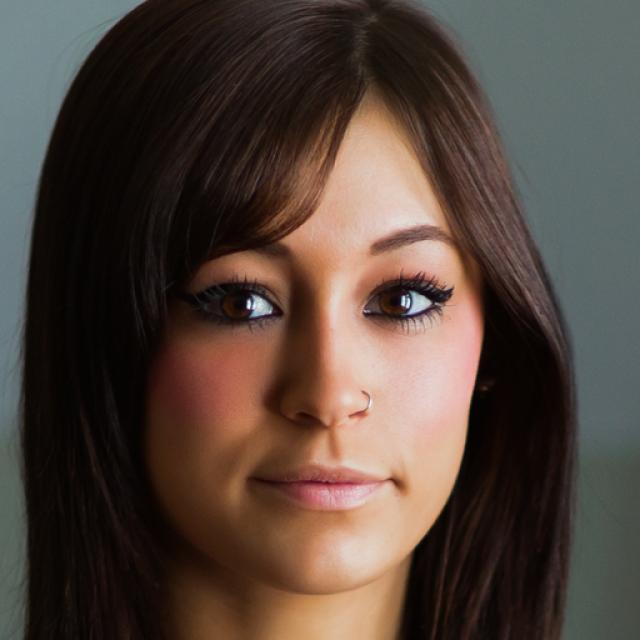0_rostro_limpio: (128, 0, 485, 591)
